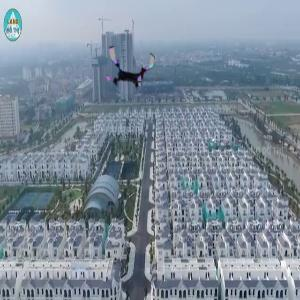drone: (105, 42, 159, 96)
